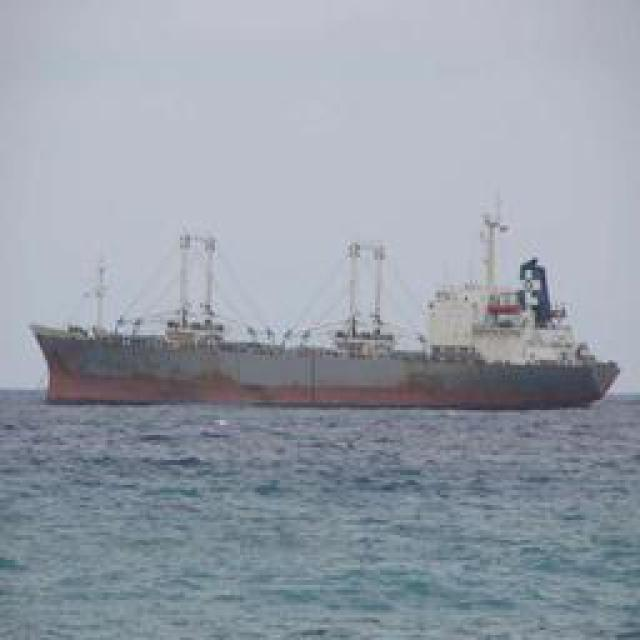Ship: (36, 221, 630, 417)
